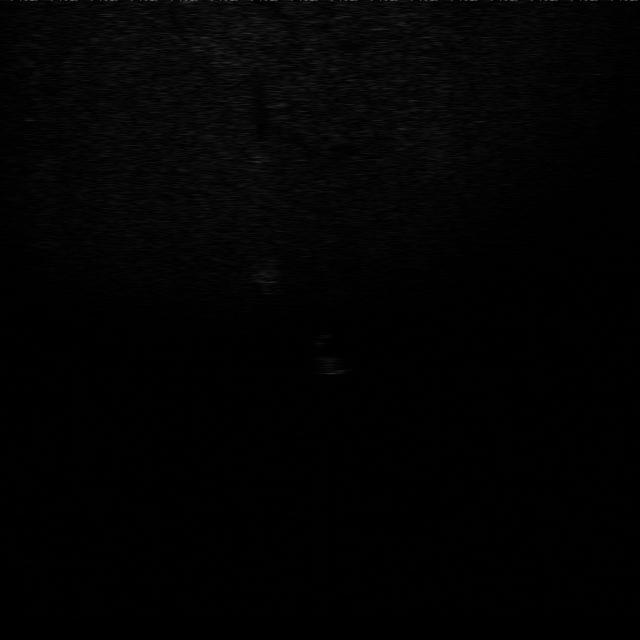ball: (245, 141, 279, 165)
circle cage: (244, 252, 291, 292)
tyre: (299, 331, 361, 378)
